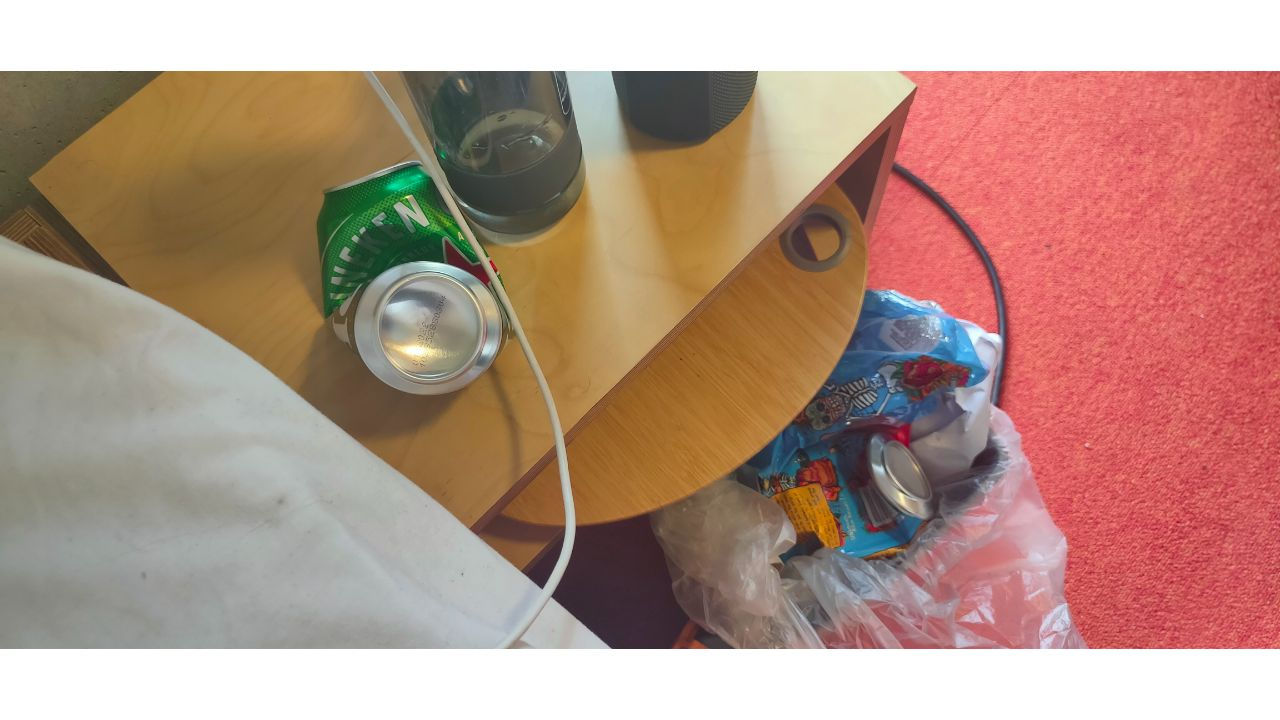Can: (316, 158, 515, 397), (761, 433, 932, 558)
